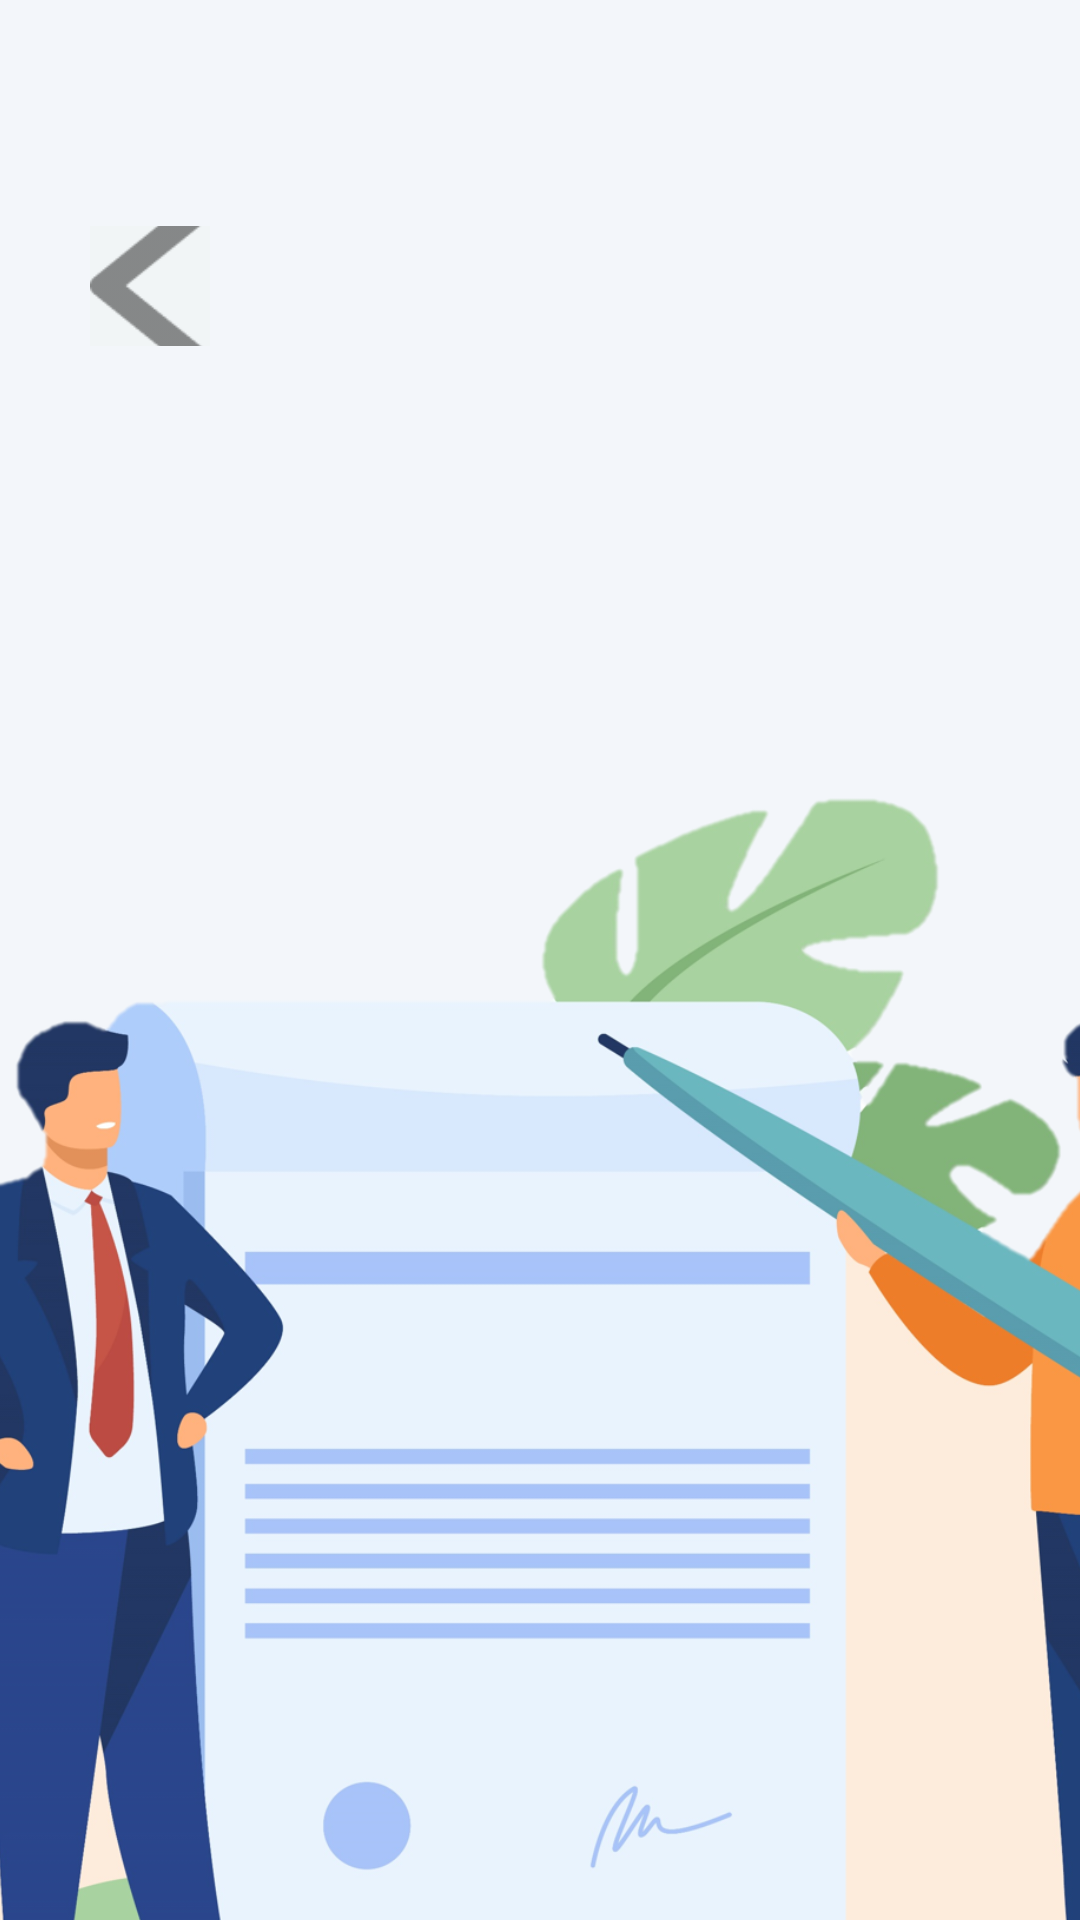

Icon bounding boxes for this 1080w x 1920h phone screenshot, format (x1, y1, x2, y2):
left: (90, 226, 201, 346)
